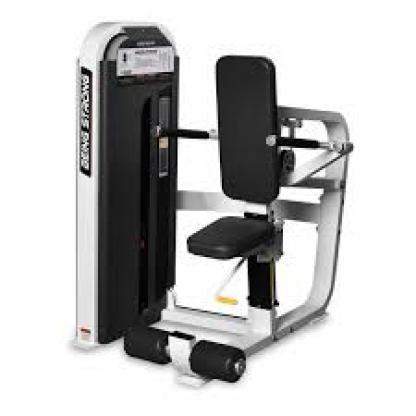seated dip machine: (62, 15, 363, 394)
